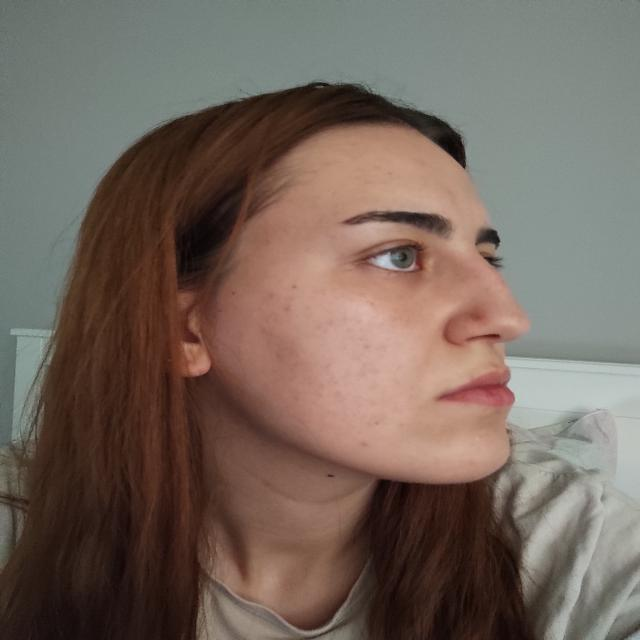Acne: (308, 318, 338, 333), (349, 330, 371, 348), (468, 307, 488, 323), (365, 418, 386, 432), (329, 389, 345, 406), (259, 292, 277, 304), (278, 302, 295, 314), (269, 350, 281, 367), (354, 439, 371, 451)
